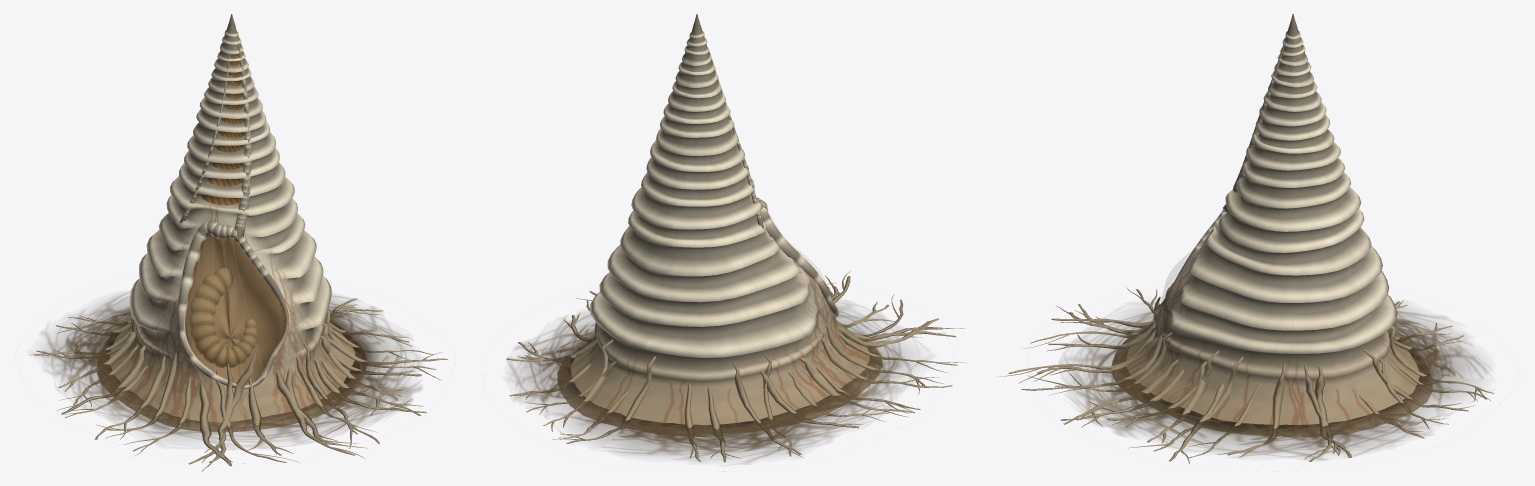
File: spiral_cocoon_v2.glb
3 views of the same model, side by side, from view 1: azimuth 30°, elevation 25°; view 2: azimuth 150°, elevation 25°; view 3: azimuth 270°, elevation 25° (orthographic). The views are drawn at different scales.
Visible parts, largest first — view 1: Septa, RootPool, Roots, Membrane, Cavity, Lip, Occupant, MucusStrands; view 2: Septa, RootPool, Roots, Lip; view 3: Septa, RootPool, Roots, Lip.
Boxes of the visible parts, <box> form: Septa: <box>97,14,366,432</box>; RootPool: <box>40,291,421,448</box>; Roots: <box>29,298,447,471</box>; Membrane: <box>186,235,284,384</box>; Cavity: <box>185,234,283,384</box>; Lip: <box>177,44,289,389</box>; Occupant: <box>189,268,256,368</box>; MucusStrands: <box>190,234,264,384</box>; Septa: <box>557,14,882,436</box>; RootPool: <box>507,300,923,463</box>; Roots: <box>506,271,967,462</box>; Lip: <box>709,52,838,317</box>; Septa: <box>1112,14,1432,437</box>; RootPool: <box>1060,303,1487,460</box>; Roots: <box>999,287,1494,463</box>; Lip: <box>1153,45,1284,328</box>.
Bounding box in the file's own units: 2.18 × 1.9 × 2.47.
Materials: 6 (4 with a texture image).
